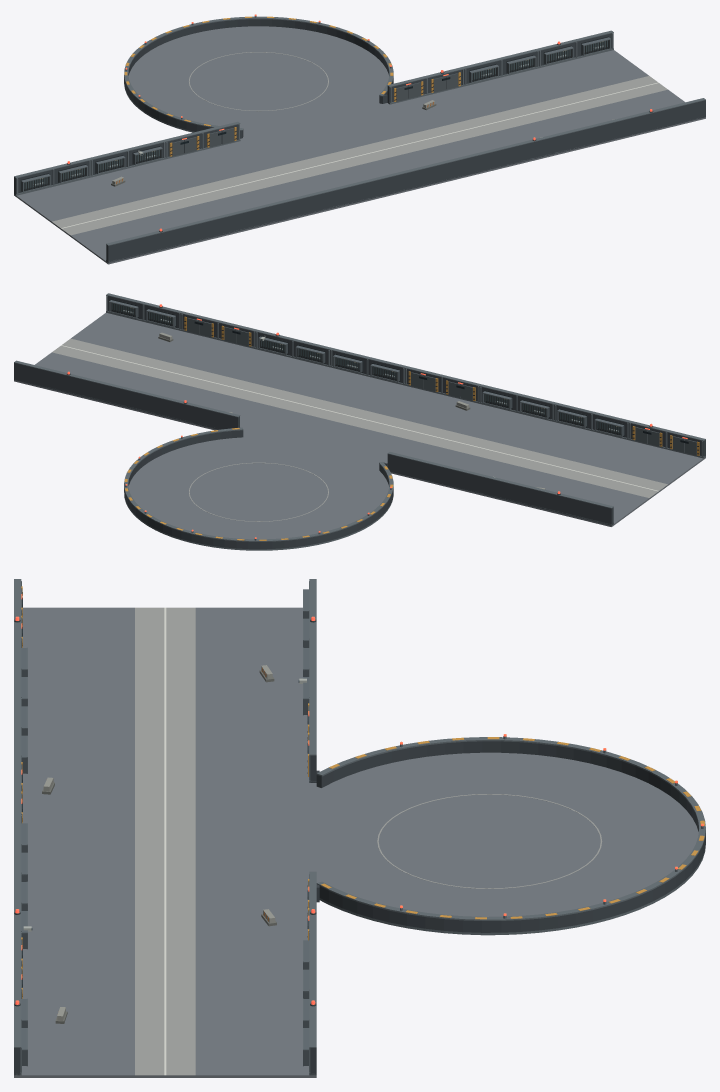
File: scp.glb
3 renders of one model, top to bottom at view 1: azimuth 30°, elevation 25°; view 2: azimuth 150°, elevation 25°; view 3: azimuth 270°, elevation 25°, orthographic. The views are drawn at different scales.
Parts seen in each view (by area): view 1: SC_Floor64 (×8), SC_Arena, SC_WallA (×9), SC_WallB (×5); view 2: SC_Floor64 (×8), SC_Arena, SC_WallA (×9), SC_WallB (×5); view 3: SC_Floor64 (×8), SC_Arena, SC_WallA (×9), SC_WallB.
Part boxes in pixels (x1=…): SC_Floor64 (×8): x1=14, y1=50, x2=705, y2=264; SC_Arena: x1=124, y1=14, x2=393, y2=138; SC_WallA (×9): x1=14, y1=30, x2=705, y2=244; SC_WallB (×5): x1=106, y1=67, x2=631, y2=262; SC_Floor64 (×8): x1=14, y1=313, x2=705, y2=526; SC_Arena: x1=124, y1=427, x2=393, y2=550; SC_WallA (×9): x1=14, y1=293, x2=630, y2=525; SC_WallB (×5): x1=163, y1=311, x2=705, y2=489; SC_Floor64 (×8): x1=14, y1=607, x2=316, y2=1077; SC_Arena: x1=316, y1=734, x2=705, y2=935; SC_WallA (×9): x1=14, y1=579, x2=316, y2=1075; SC_WallB: x1=307, y1=696, x2=316, y2=782.
Size of the model in its own units: 512 by 17.7 by 320.
Materials: 3 (3 with a texture image).
